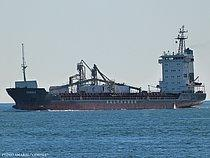Ship: (6, 25, 207, 111)
